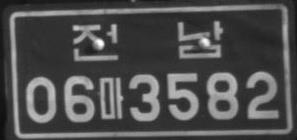0: (25, 75, 56, 124)
2: (245, 70, 278, 119)
3: (129, 72, 160, 122)
5: (165, 71, 200, 120)
6: (64, 74, 95, 123)
8: (206, 71, 238, 119)
마: (99, 76, 125, 119)
전남_D: (71, 20, 223, 61)
